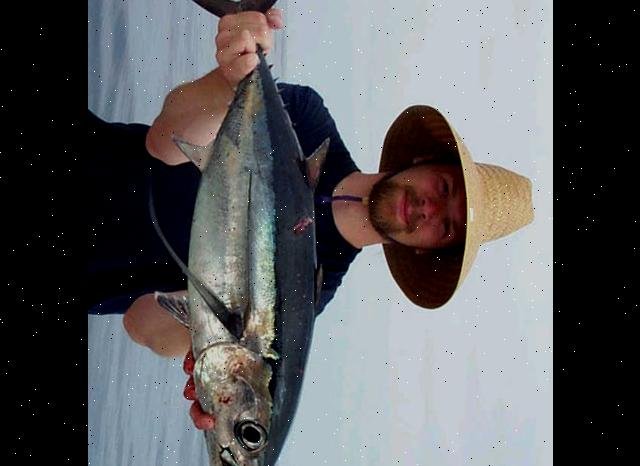Mulut: (188, 415, 280, 466)
Sirip Anal: (160, 115, 228, 183)
Sirip Dada: (136, 167, 256, 352)
Sirip Ekor: (162, 0, 319, 57)
Sirip Perut: (142, 282, 200, 336)
Sirip Punggung: (283, 124, 343, 316)
